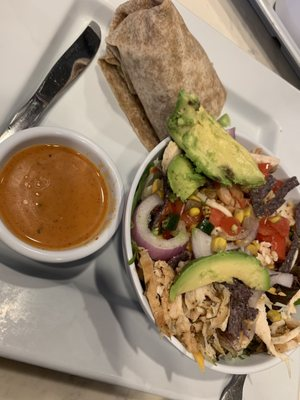soup: (99, 0, 228, 150)
sushi: (0, 126, 124, 280)
